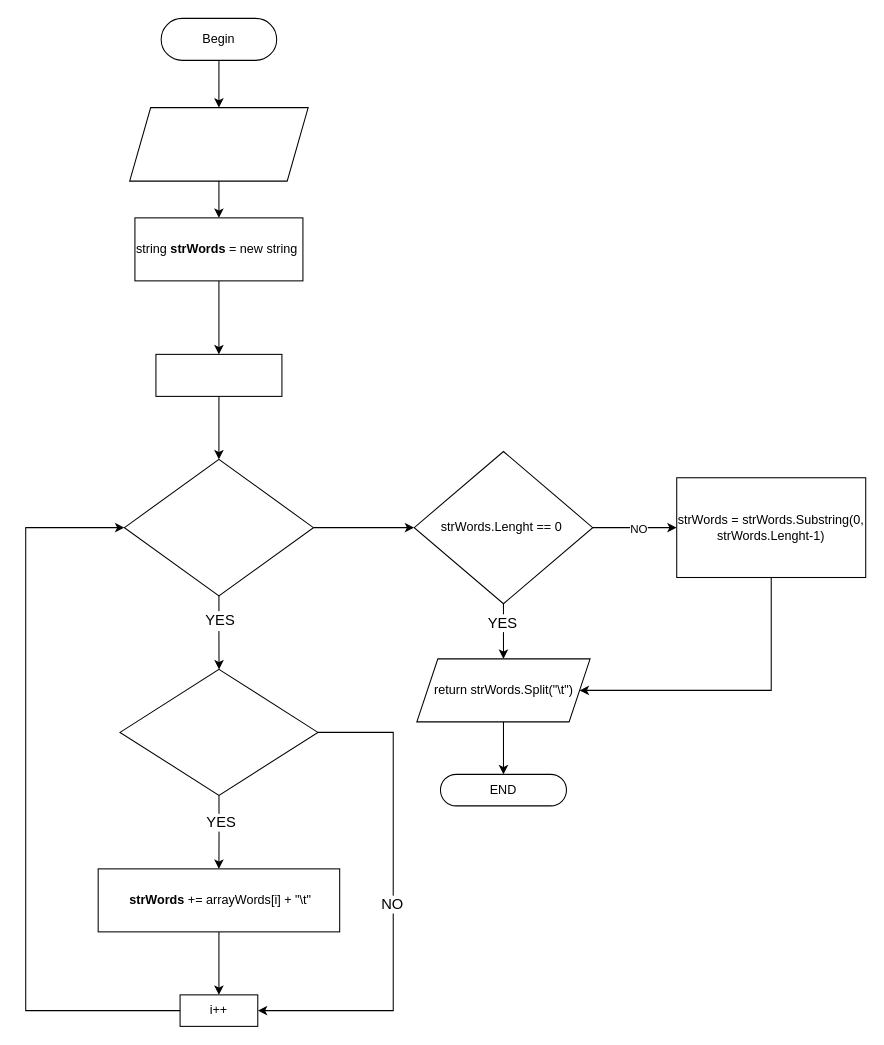
The diagram is 884 pixels wide and 1045 high, and some of its shapes have lost their labels. The centre of each missing label's shape, as x and y in pixels:
i< words.Lenght: point 218,527
i=0: point 218,374
String[] w ords: point 218,144
words[i].Lenght<=3: point 218,731
